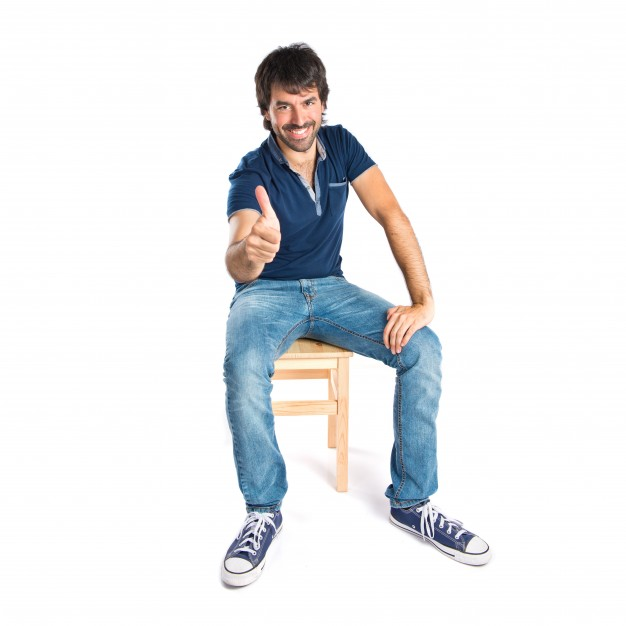thumbsup: (245, 185, 281, 264)
